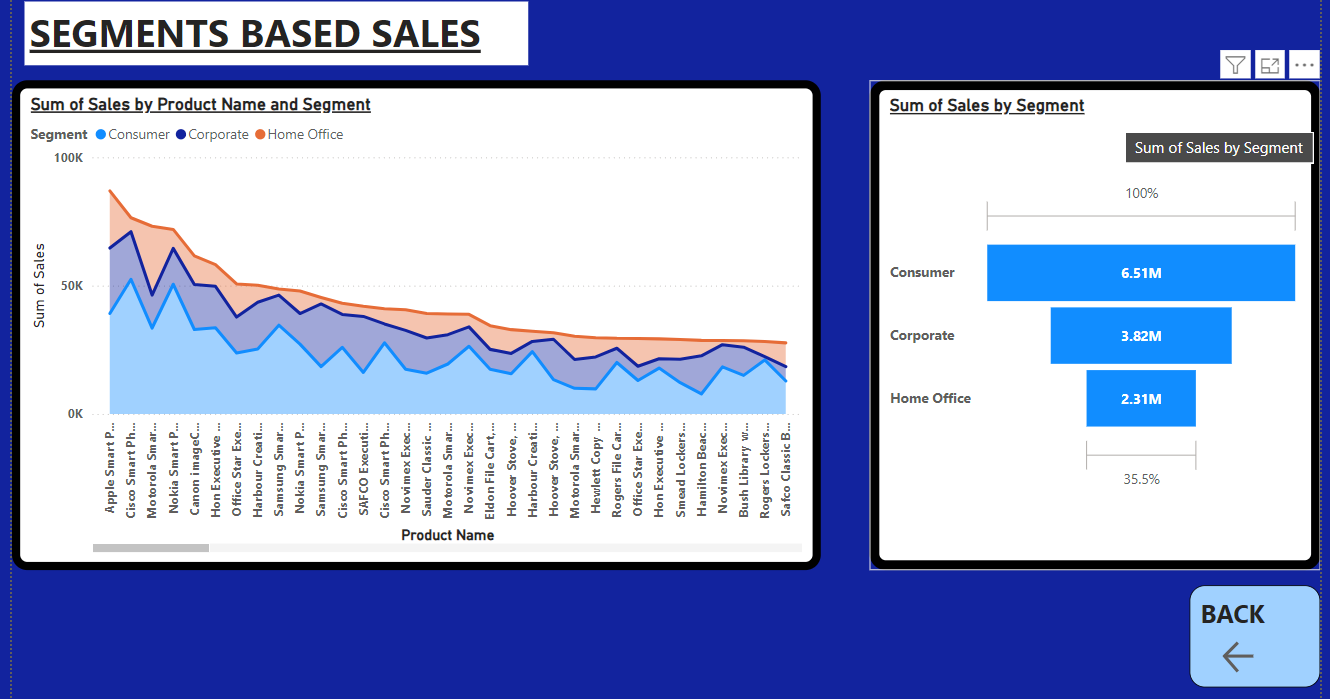

The dashboard page shown, as its layout file describes it:
{"tool":"powerbi","page":{"name":"Page 2","canvas":[1280,720],"ordinal":1},"visuals":[{"type":"stackedAreaChart","fields":{"Y":["Sum(Orders.Sales)"],"Category":["Orders.Product Name"],"Series":["Orders.Segment"]},"box":[0,99,791.2,479.4],"z":0},{"type":"textbox","box":[12.2,22,492.8,62.4],"z":1},{"type":"funnel","fields":{"Category":["Orders.Segment"],"Y":["Sum(Orders.Sales)"]},"box":[838.9,99,441.4,479.4],"z":2},{"type":"textbox","box":[1151.9,593.1,128.4,100.3],"z":3},{"type":"actionButton","box":[1180,643.2,100.3,40.4],"z":4}]}

Visuals, with their boxes in screenshot pixels (x1, y1, x2, y2):
stackedAreaChart - Sum(Orders.Sales) x Orders.Product Name: [38, 85, 824, 561]
textbox: [50, 8, 540, 70]
funnel - Orders.Segment x Sum(Orders.Sales): [872, 85, 1310, 561]
textbox: [1183, 575, 1310, 675]
actionButton: [1210, 625, 1310, 665]
